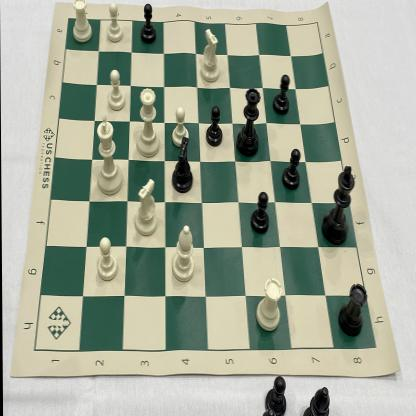black-king: (318, 164, 356, 249)
black-knight: (166, 136, 195, 194)
black-pawn: (248, 187, 270, 237), (281, 147, 302, 193), (271, 72, 292, 116), (139, 0, 158, 48), (205, 105, 223, 150)
black-queen: (235, 84, 261, 160)
black-rook: (336, 280, 368, 338)
white-bishop: (169, 222, 196, 286)
white-king: (93, 112, 125, 197)
white-knight: (134, 174, 158, 238), (197, 24, 221, 85)
white-pawn: (94, 233, 120, 283), (104, 68, 127, 112), (168, 105, 189, 149), (104, 2, 125, 43)
white-queen: (136, 84, 161, 158)
white-rook: (252, 272, 284, 336), (70, 1, 94, 44)
